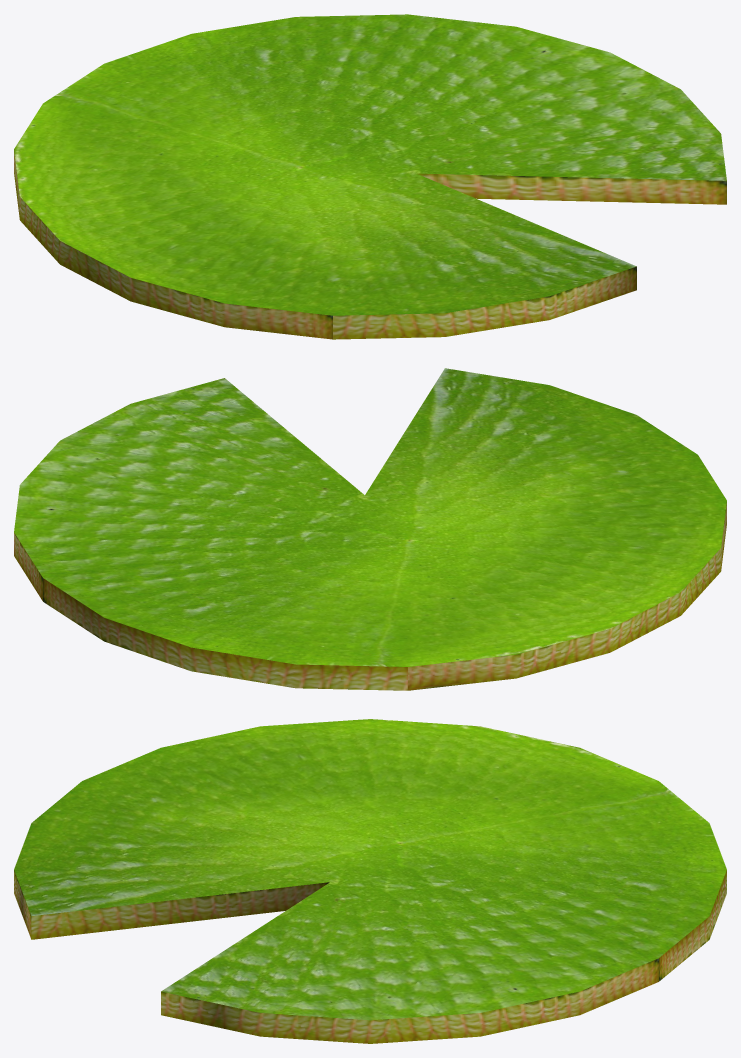
Rendered from waterlilyplatform.fbx.
3 renders of one model, top to bottom at view 1: azimuth 30°, elevation 25°; view 2: azimuth 150°, elevation 25°; view 3: azimuth 270°, elevation 25°, orthographic.
Visible parts, largest first — view 1: pCylinder1; view 2: pCylinder1; view 3: pCylinder1.
Boxes of the visible parts, x1=… form: pCylinder1: x1=14, y1=14, x2=726, y2=339; pCylinder1: x1=14, y1=368, x2=726, y2=690; pCylinder1: x1=14, y1=719, x2=726, y2=1043.
Bounding box in the file's own units: 2000 × 73.27 × 2000.
